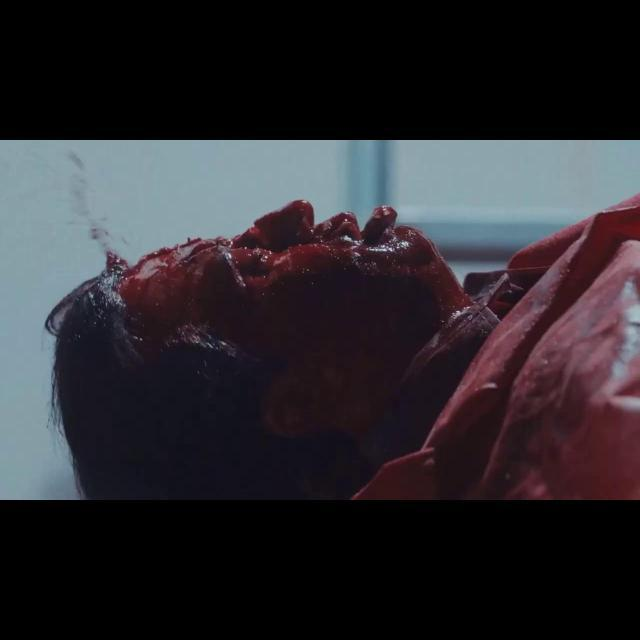blood: (42, 152, 640, 500)
